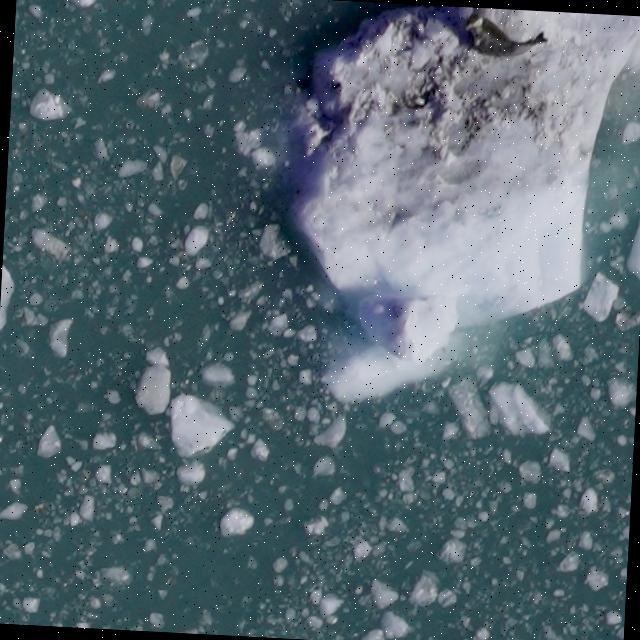seal: (458, 11, 554, 62)
